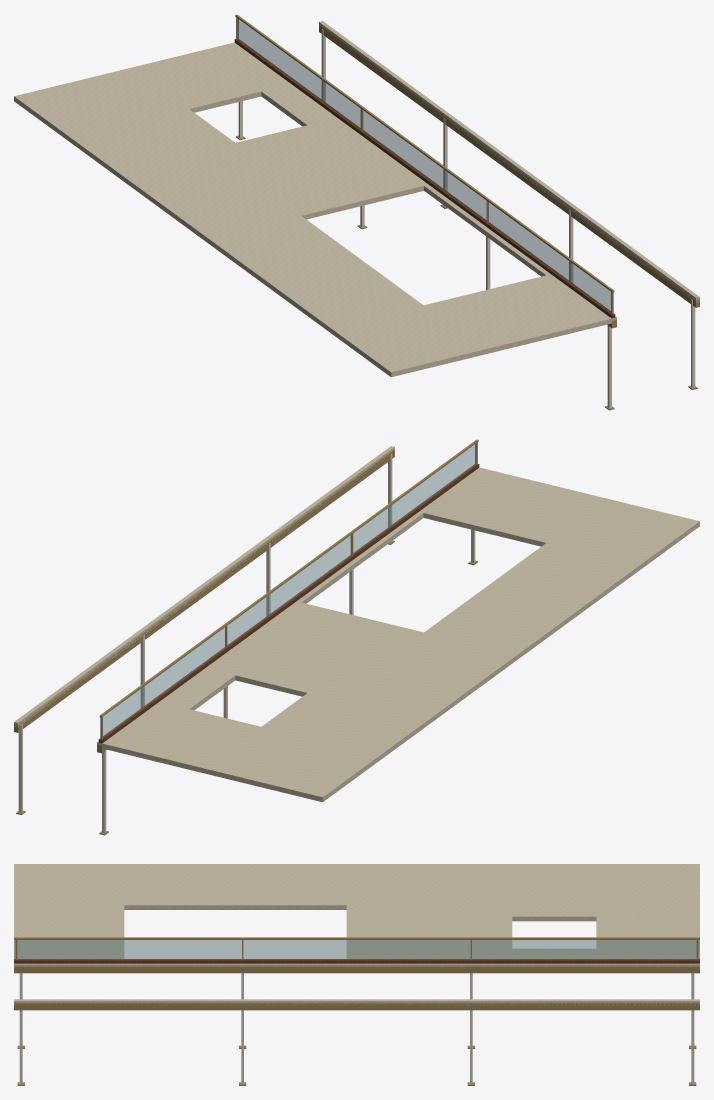
File: PrimaryCoreReceiving.glb
The picture shows the model from 3 angles, top to bottom: view 1: azimuth 30°, elevation 25°; view 2: azimuth 150°, elevation 25°; view 3: azimuth 270°, elevation 25°; orthographic projection. The views are drawn at different scales.
Visible parts, largest first — view 1: D05_Primary_ExactRetainedFloorReplacement, PrimaryD05_WestGlassGuard, PrimaryD05_ReceivingEastLedger, PrimaryD05_WestGuardPlinth, PrimaryD05_WestGuardCap; view 2: D05_Primary_ExactRetainedFloorReplacement, PrimaryD05_WestGlassGuard, PrimaryD05_ReceivingEastLedger, PrimaryD05_WestGuardPlinth, PrimaryD05_WestGuardCap; view 3: D05_Primary_ExactRetainedFloorReplacement, PrimaryD05_WestGlassGuard, PrimaryD05_ReceivingEastLedger, PrimaryD05_ReceivingWestLedger, PrimaryD05_WestGuardPlinth, PrimaryD05_WestGuardCap.
Part boxes in pixels (x1,y1,x2,y2): D05_Primary_ExactRetainedFloorReplacement: [14, 21, 699, 377]; PrimaryD05_WestGlassGuard: [236, 18, 613, 314]; PrimaryD05_ReceivingEastLedger: [319, 25, 699, 307]; PrimaryD05_WestGuardPlinth: [234, 39, 615, 318]; PrimaryD05_WestGuardCap: [235, 14, 614, 292]; D05_Primary_ExactRetainedFloorReplacement: [14, 446, 699, 802]; PrimaryD05_WestGlassGuard: [100, 443, 477, 739]; PrimaryD05_ReceivingEastLedger: [14, 450, 394, 732]; PrimaryD05_WestGuardPlinth: [98, 464, 479, 743]; PrimaryD05_WestGuardCap: [99, 439, 478, 717]; D05_Primary_ExactRetainedFloorReplacement: [14, 864, 699, 1005]; PrimaryD05_WestGlassGuard: [14, 940, 699, 959]; PrimaryD05_ReceivingEastLedger: [14, 1003, 699, 1010]; PrimaryD05_ReceivingWestLedger: [14, 966, 699, 973]; PrimaryD05_WestGuardPlinth: [14, 959, 699, 963]; PrimaryD05_WestGuardCap: [14, 937, 699, 939].
Bounding box in the file's own units: 15.6 × 5.82 × 33.
Materials: 5 (4 with a texture image).
